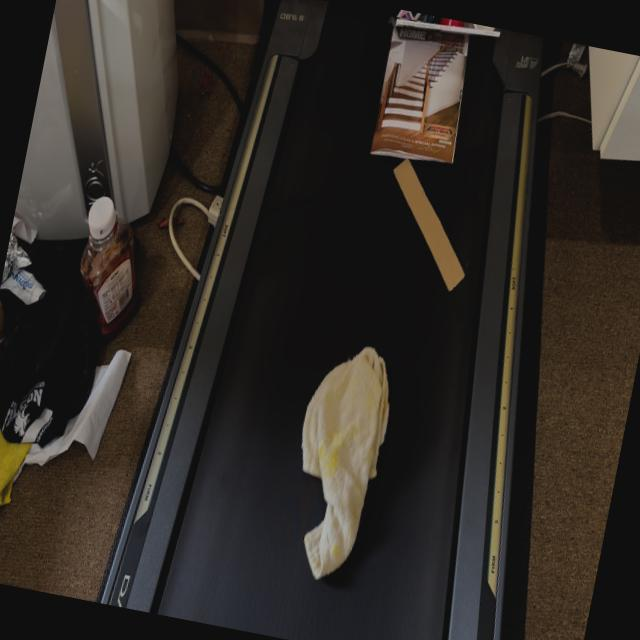Recycle: (362, 156, 489, 304), (368, 16, 480, 168)
Trash: (277, 332, 403, 592)
